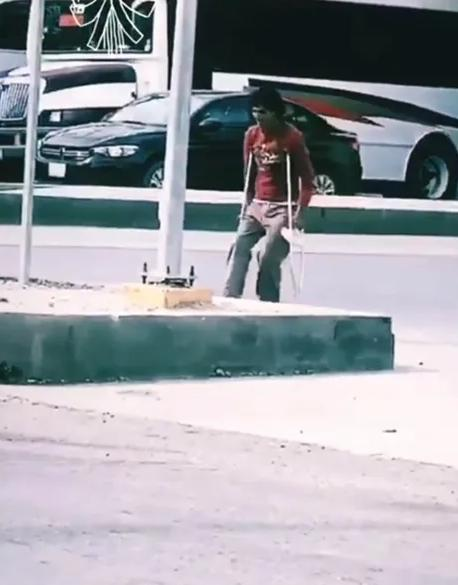crutches: (215, 87, 314, 343)
